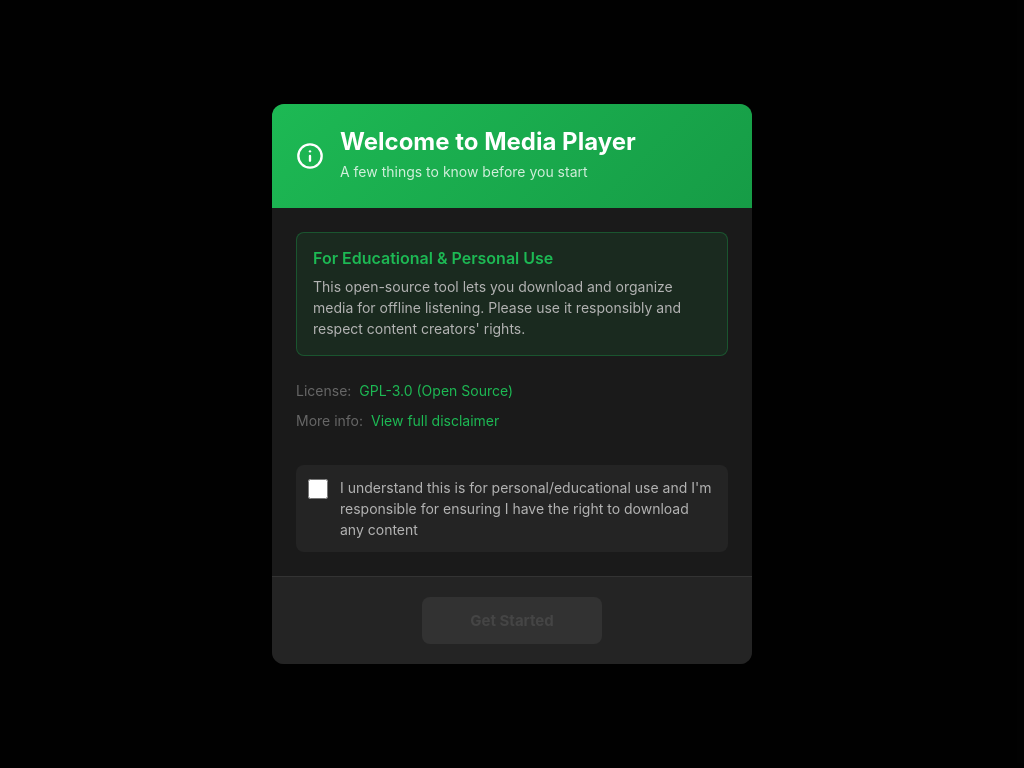
Scenario: FirstRunModal › checkbox interactions › disables accept button when checkbox is unchecked
This screenshot has width=1024, height=768.
# Check then uncheck
What coordinates should you click on to do the following:
click the checkbox
I would click on:
 (318, 489)
Its box is [308,479,328,499].
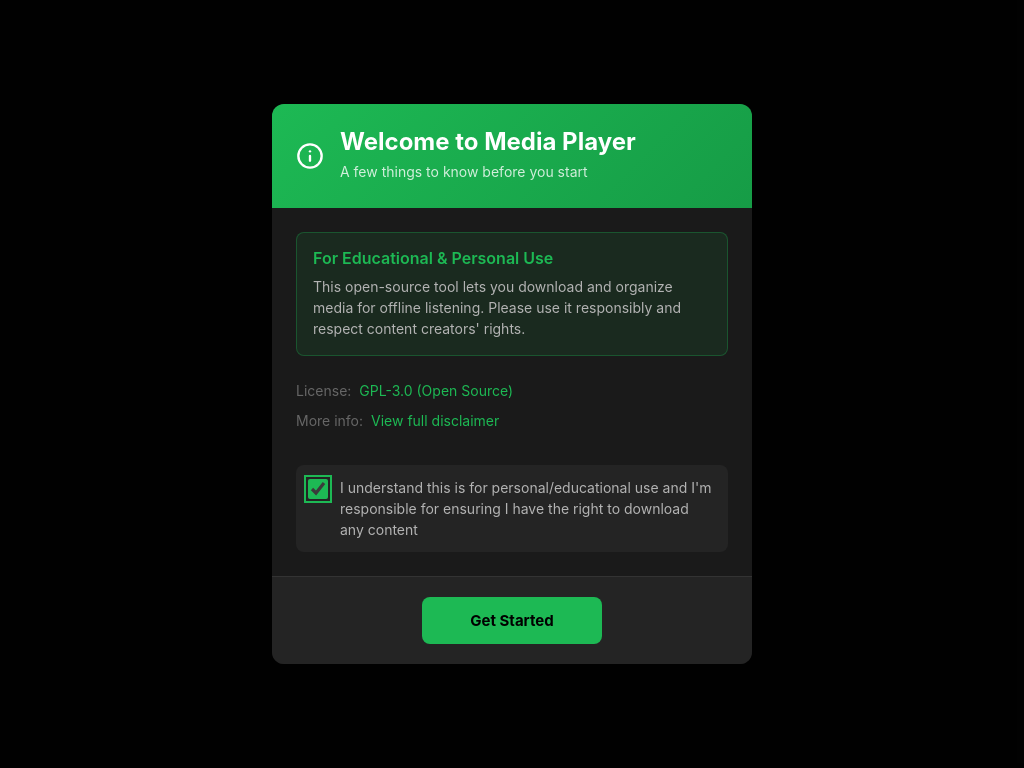
Result: the button "Get Started" is enabled at [422,597,602,644]
What coordinates should you click on to do the following:
click the checkbox
I would click on:
 (318, 489)
Its box is [308,479,328,499].
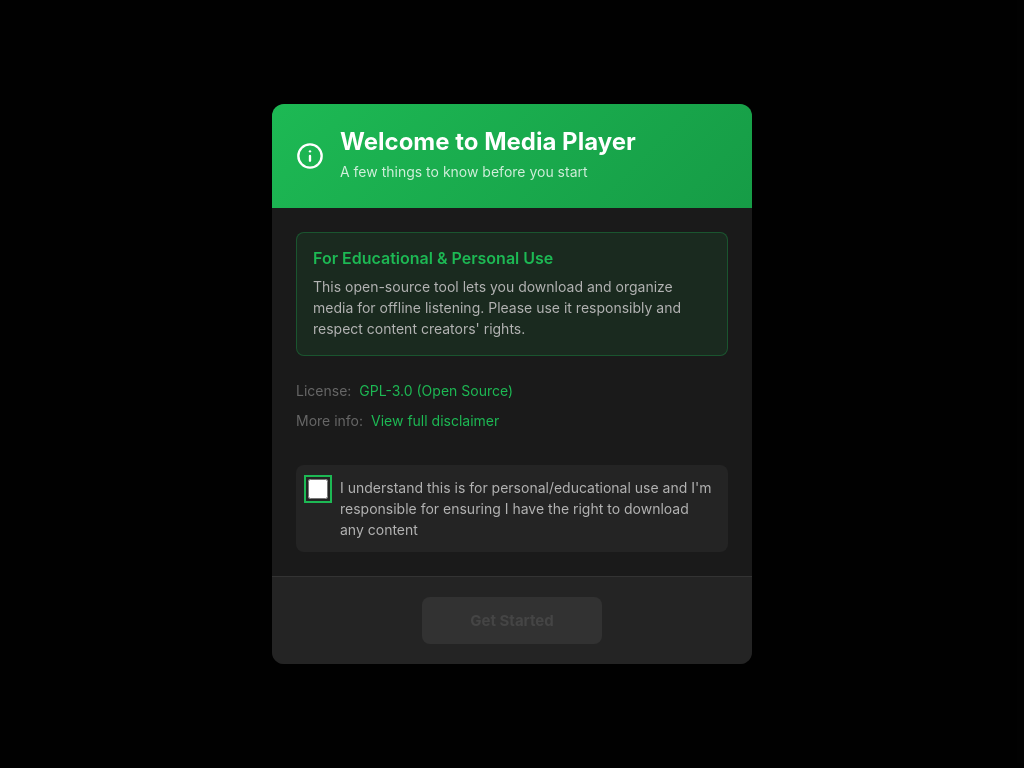
Result: the button "Get Started" is disabled at [422,597,602,644]
